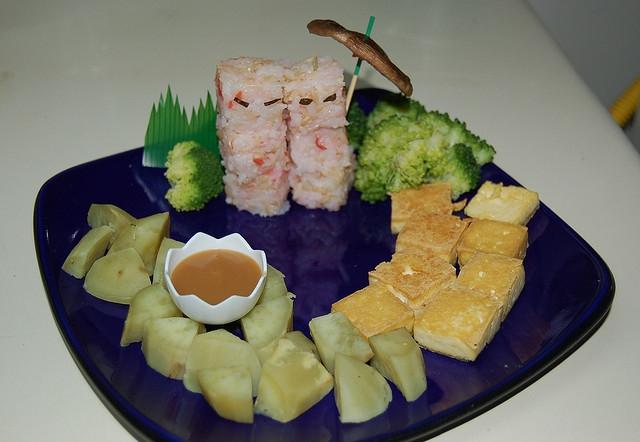broccoli: (352, 114, 436, 204), (390, 134, 482, 201), (444, 118, 497, 167), (164, 172, 223, 212), (366, 93, 426, 130), (344, 102, 372, 152), (417, 110, 454, 136)
potato: (253, 330, 334, 422), (183, 328, 261, 397), (368, 326, 427, 402), (239, 292, 296, 368), (308, 311, 374, 376), (333, 352, 392, 423), (120, 282, 184, 347), (106, 212, 170, 276), (142, 317, 206, 380), (84, 248, 152, 306), (198, 365, 254, 423), (62, 225, 115, 278), (87, 204, 138, 250), (152, 238, 185, 294), (255, 264, 288, 306)
